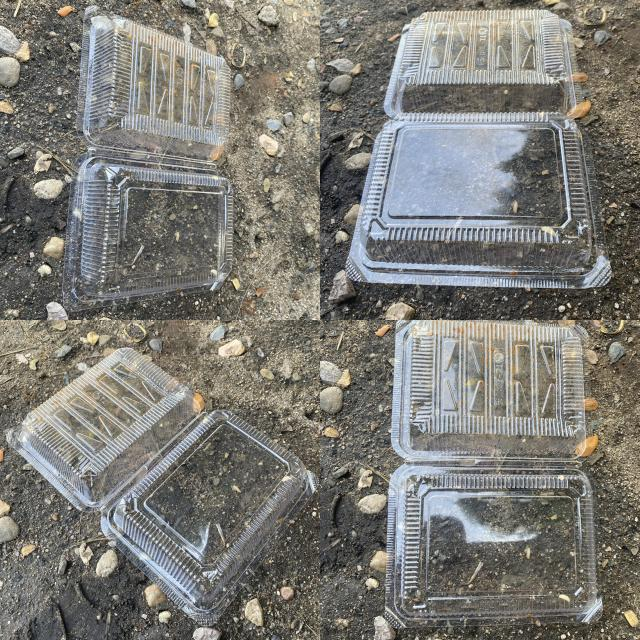Single-Use-Plastic: (8, 349, 318, 624), (346, 10, 611, 288), (385, 320, 601, 628), (62, 6, 232, 311)
